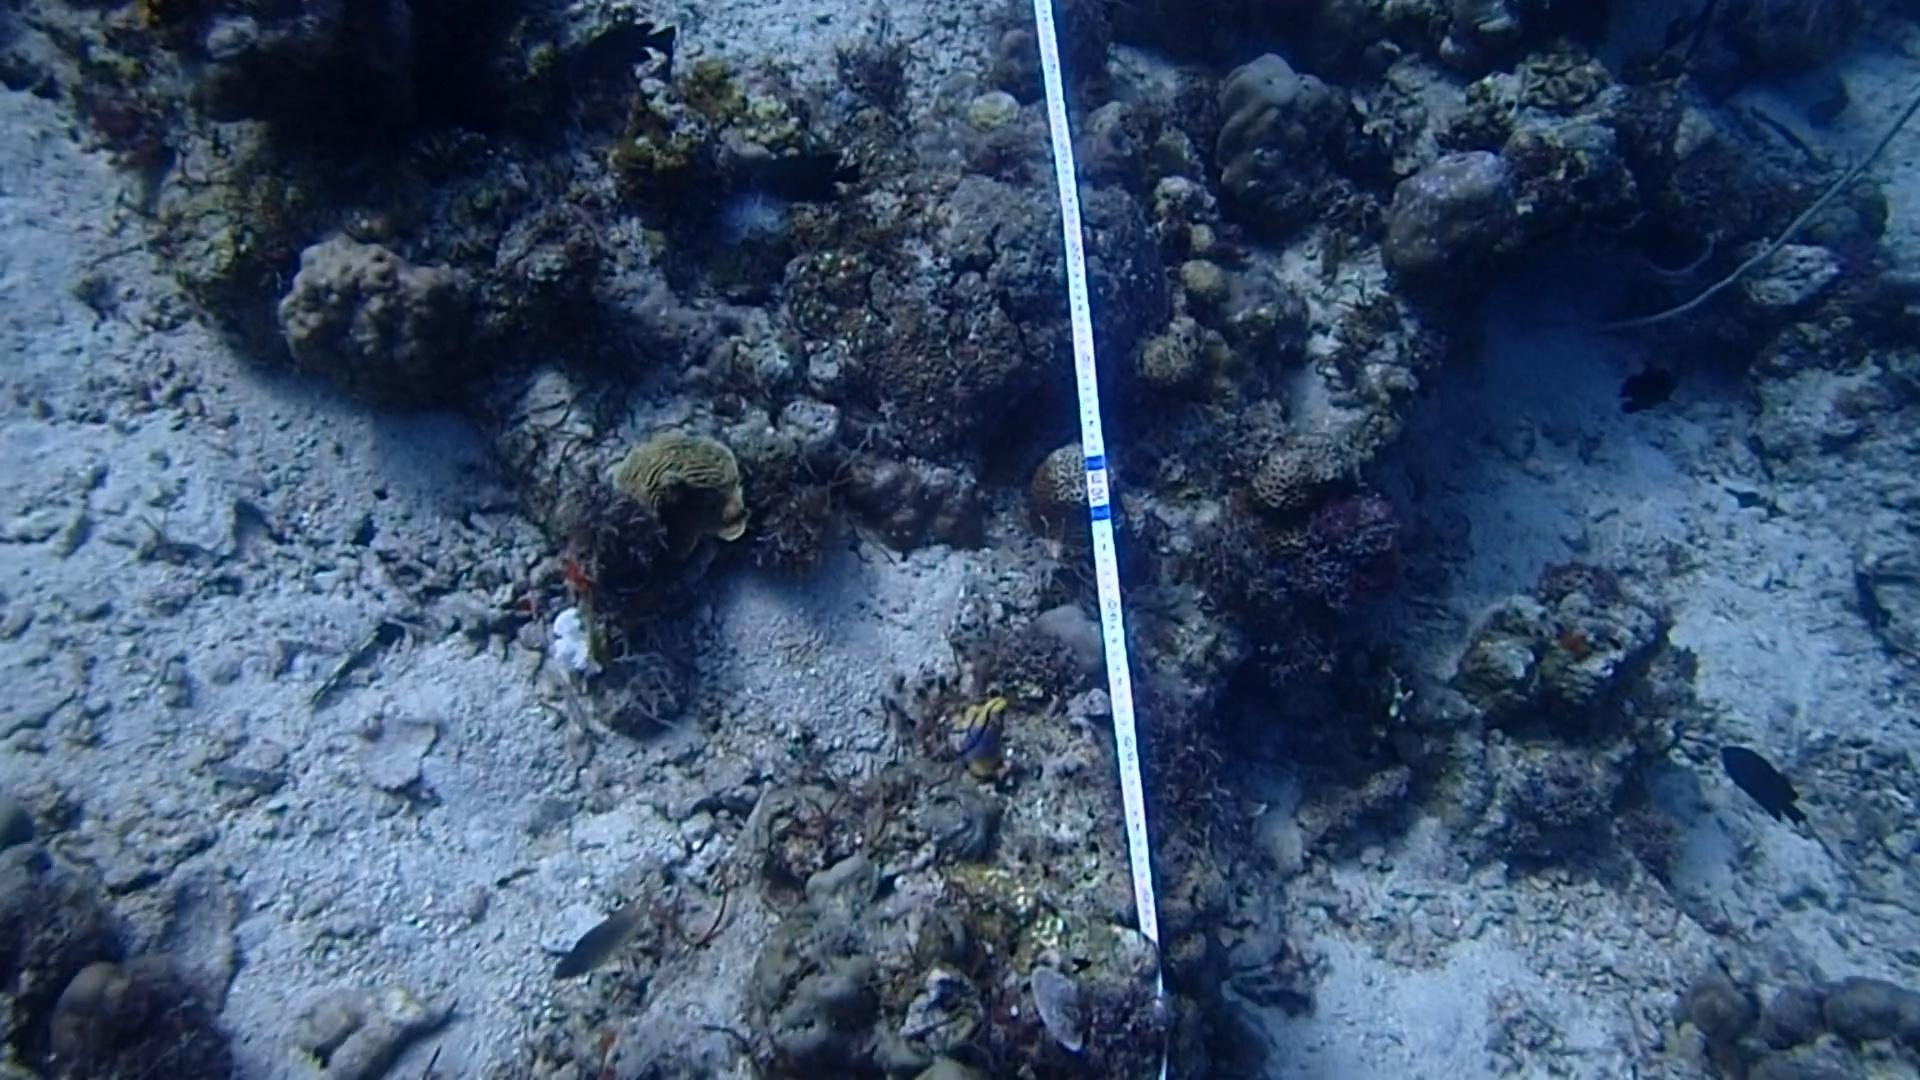Dark Fish: (1710, 735, 1812, 836), (753, 138, 865, 211), (1613, 352, 1687, 430), (588, 15, 682, 73)
Light Fish: (542, 895, 661, 986)
